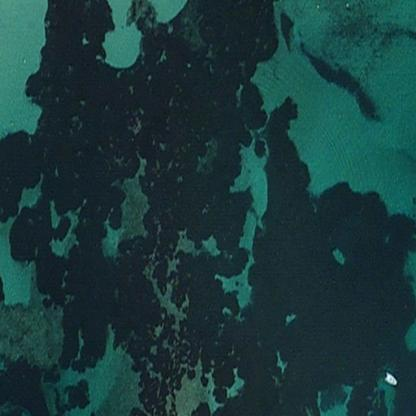ship: (377, 366, 402, 389)
